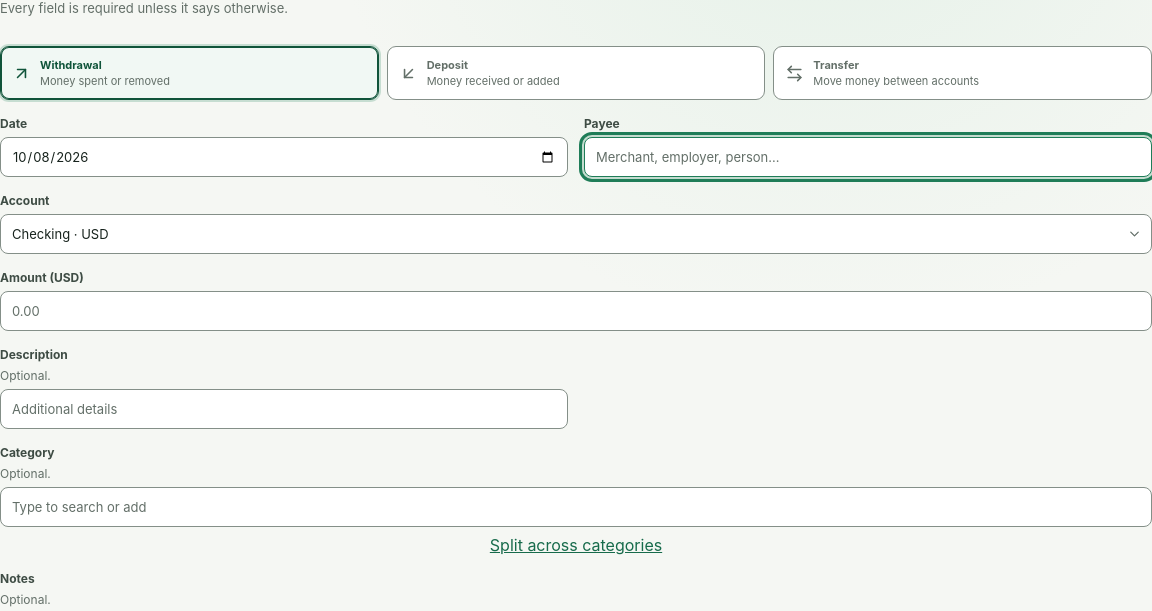
it: the name the category picker shows › leaves a typed name that matches nothing alone
The width and height of the screenshot is (1152, 611).
In the field with placeholder "Type to search or add": (576, 507) 0,487 -> 1151,527, type "Fuel"
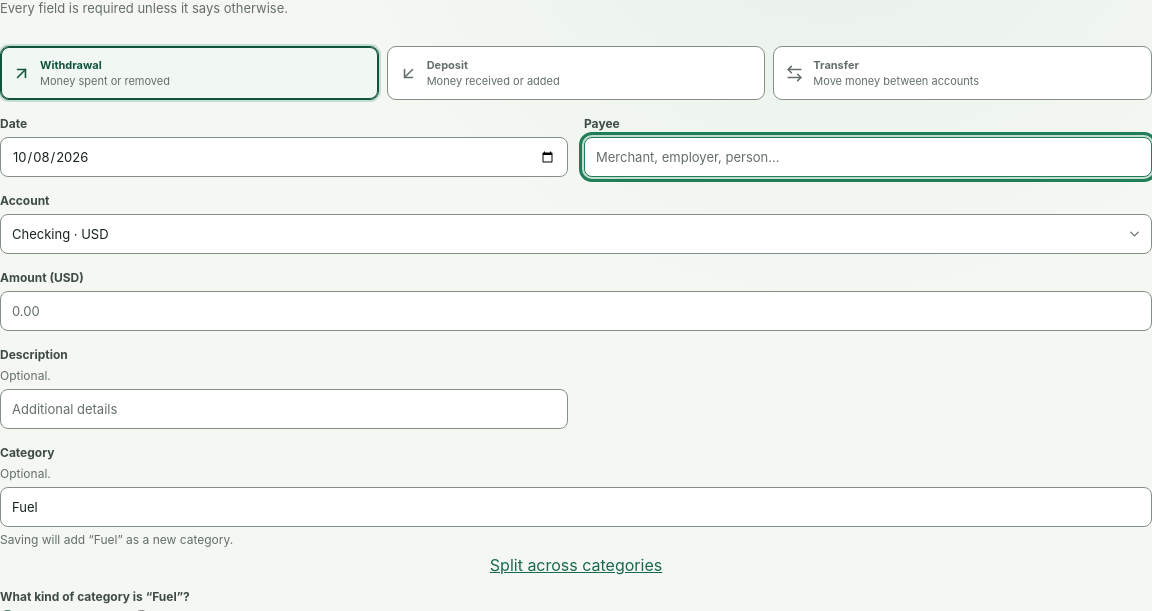
Expected: the text "Saving will add “Fuel” as a new category." is shown, 0,532 -> 233,547
